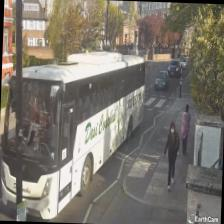person: (162, 120, 180, 189), (180, 102, 190, 154)
